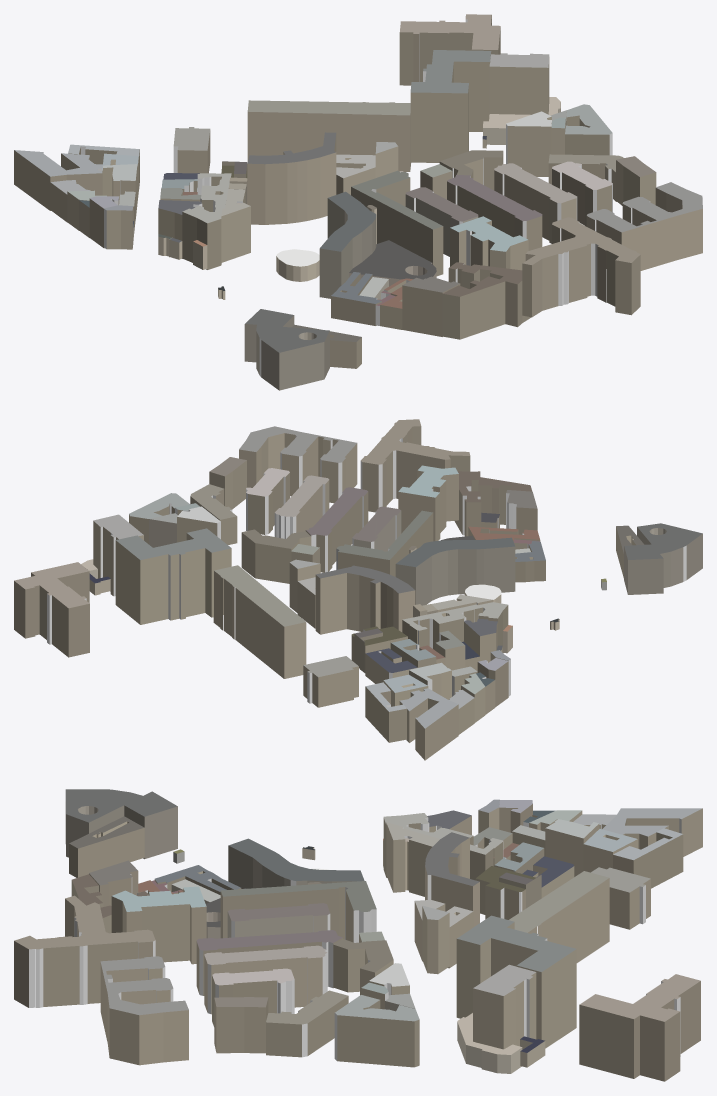
The picture shows the model from 3 angles, top to bottom: view 1: azimuth 30°, elevation 25°; view 2: azimuth 150°, elevation 25°; view 3: azimuth 270°, elevation 25°; orthographic projection. The views are drawn at different scales.
Visible parts, largest first — view 1: tuile; view 2: tuile; view 3: tuile.
Part boxes in pixels (x1,y1,x2,y2): tuile: (14, 14, 702, 390); tuile: (14, 419, 702, 760); tuile: (14, 789, 702, 1081).
Bounding box in the file's own units: 276 × 47.84 × 305.
